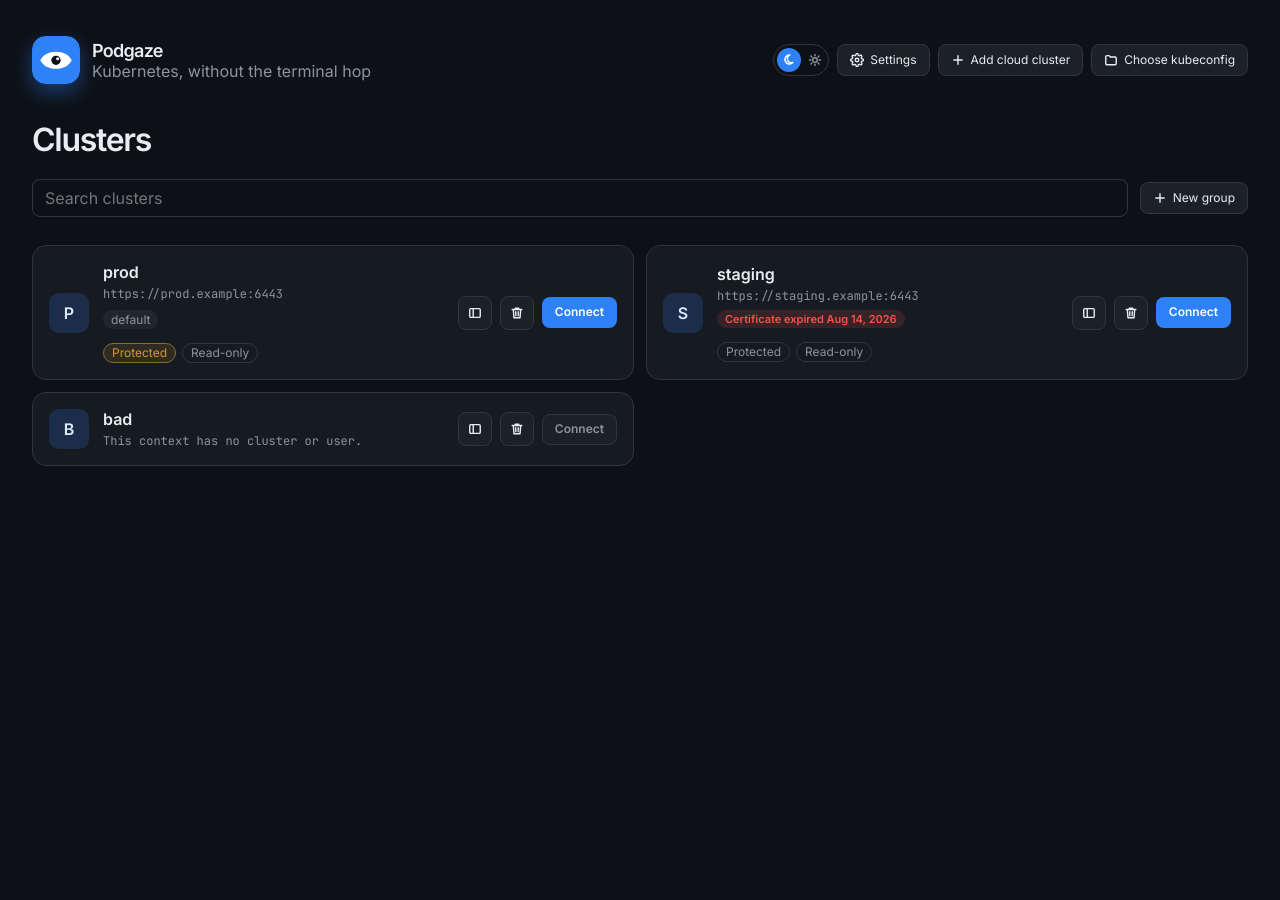
Test: App › shows sidebar counts before a kind is opened
Click the button with aria-label "Connect prod".
click(579, 313)  # box [542,298,617,328]
(page scrolled)
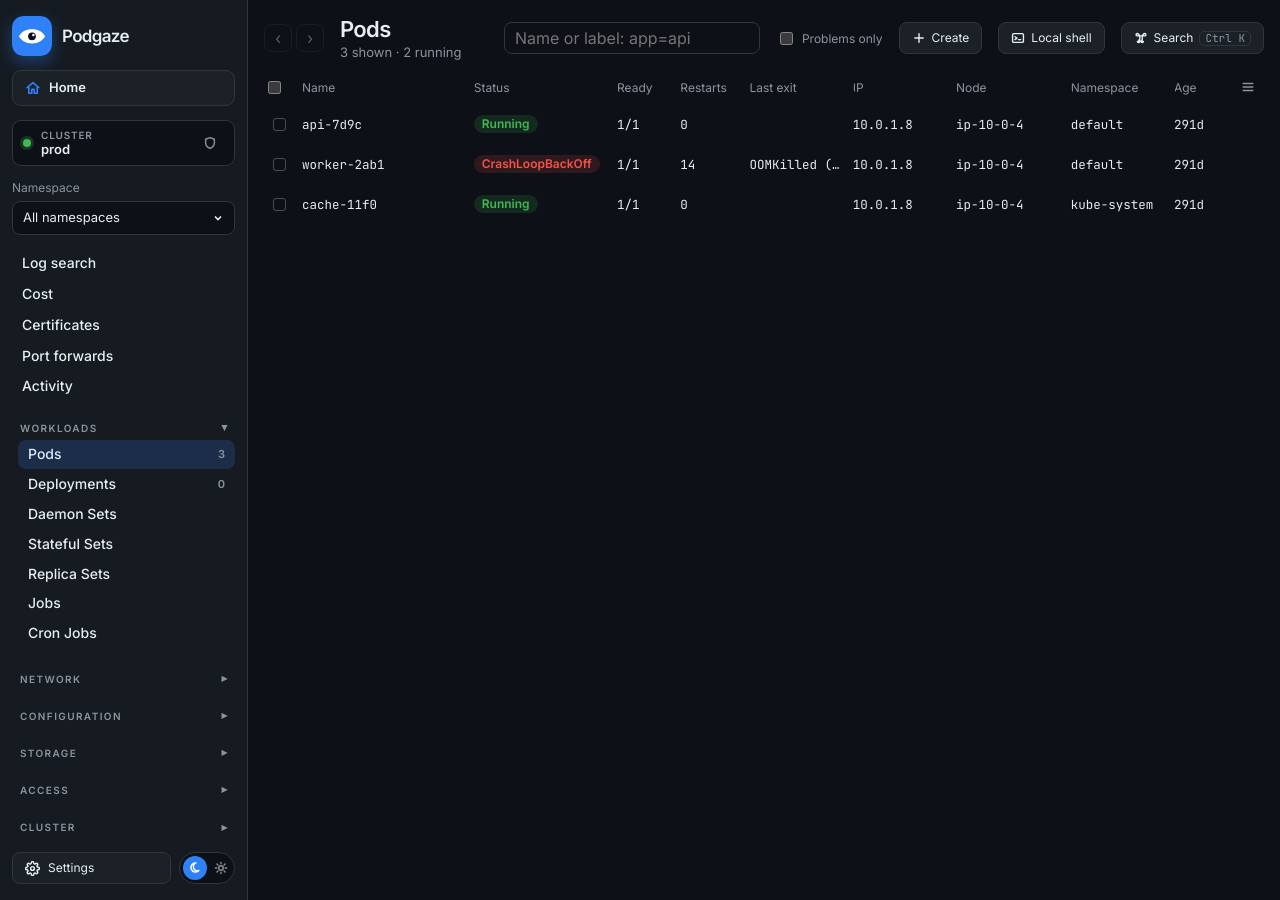
Check: the text "api-7d9c" is shown, box [302,116,362,132]
Click the button "Configuration ▸".
click(124, 716)  # box [12,705,235,726]
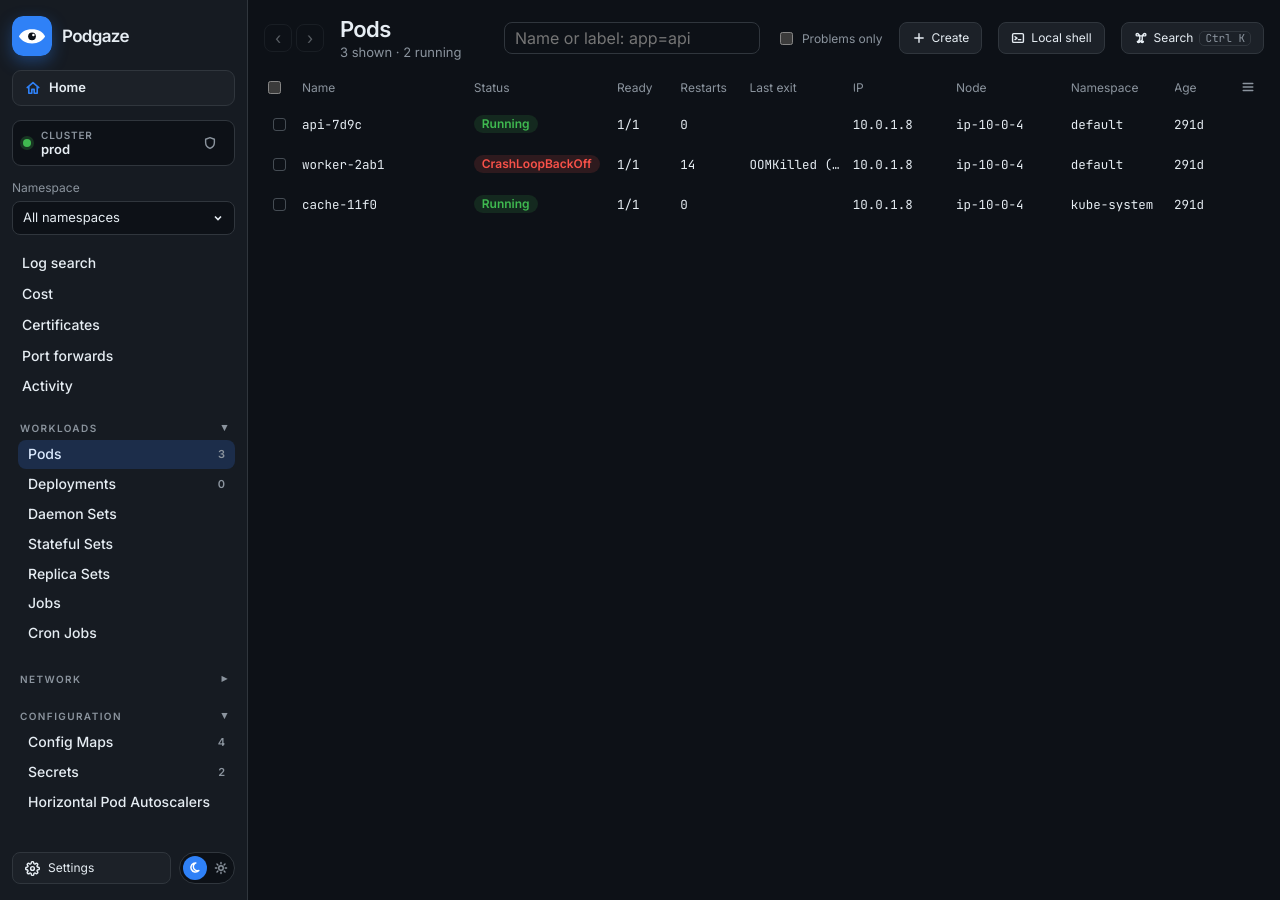
Check: the button "Config Maps 4" is shown, box [18,728,235,757]
Check: the button "Secrets 2" is shown, box [18,758,235,787]
